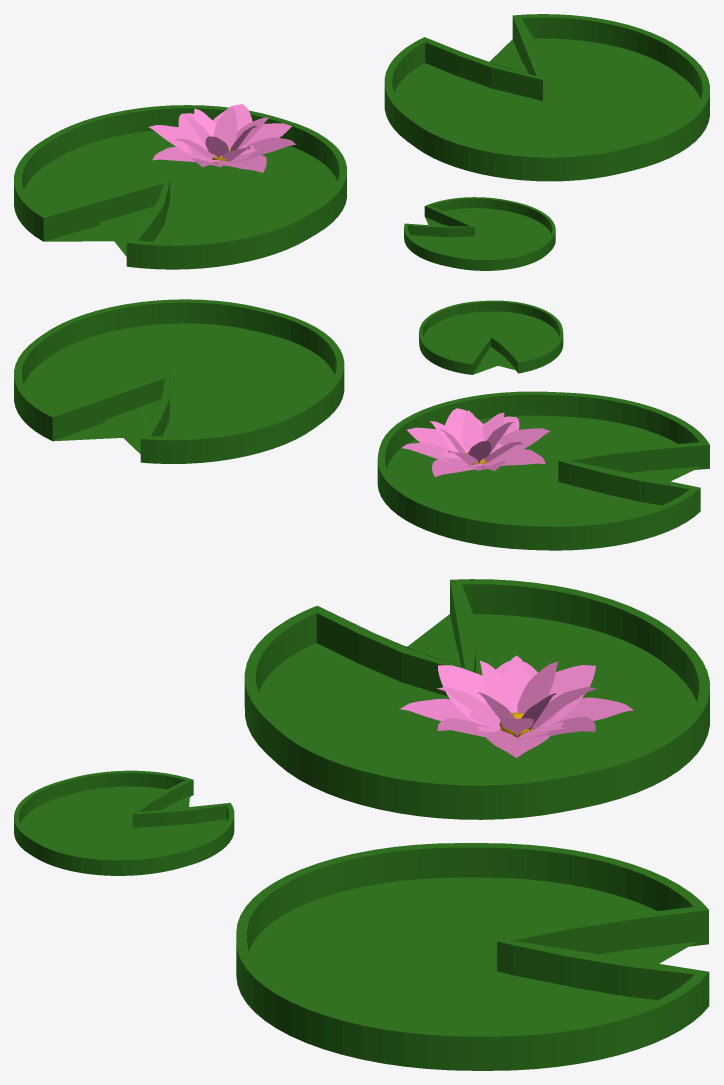
Rendered from WaterLelies.fbx.
3 renders of one model, top to bottom at view 1: azimuth 30°, elevation 25°; view 2: azimuth 150°, elevation 25°; view 3: azimuth 270°, elevation 25°, orthographic. The views are drawn at different scales.
Visible parts, largest first — view 1: Cube, Cube.002, Cube.001, Circle.004, Circle.012, Circle.006, Circle.003, Circle.002, Circle.001; view 2: Cube, Cube.002, Cube.001, Circle.007, Circle.013, Circle.003, Circle.002, Circle, Circle.005, Circle.006; view 3: Cube, Cube.002, Cube.001, Circle.007, Circle.004, Circle, Circle.001, Circle.014, Circle.003, Circle.015, Circle.008.
Part boxes in pixels (bbox=[...]): Cube: bbox=[384, 14, 709, 181]; Cube.002: bbox=[14, 105, 346, 269]; Cube.001: bbox=[404, 197, 555, 270]; Circle.004: bbox=[149, 125, 206, 159]; Circle.012: bbox=[213, 106, 236, 148]; Circle.006: bbox=[232, 137, 295, 162]; Circle.003: bbox=[239, 123, 291, 155]; Circle.002: bbox=[152, 147, 219, 162]; Circle.001: bbox=[217, 153, 266, 172]; Cube: bbox=[14, 299, 344, 463]; Cube.002: bbox=[377, 391, 709, 550]; Cube.001: bbox=[419, 300, 563, 374]; Circle.007: bbox=[492, 428, 549, 462]; Circle.013: bbox=[461, 410, 484, 453]; Circle.003: bbox=[406, 427, 461, 459]; Circle.002: bbox=[481, 449, 545, 465]; Circle: bbox=[432, 458, 482, 476]; Circle.005: bbox=[401, 442, 466, 467]; Circle.006: bbox=[445, 408, 483, 452]; Cube: bbox=[236, 843, 709, 1070]; Cube.002: bbox=[244, 579, 709, 819]; Cube.001: bbox=[14, 770, 234, 875]; Circle.007: bbox=[438, 665, 487, 725]; Circle.004: bbox=[541, 665, 595, 727]; Circle: bbox=[530, 697, 633, 731]; Circle.001: bbox=[400, 698, 501, 732]; Circle.014: bbox=[517, 661, 558, 713]; Circle.003: bbox=[486, 730, 549, 757]; Circle.015: bbox=[480, 660, 517, 720]; Circle.008: bbox=[437, 687, 502, 730].
Bounding box in the file's own units: 1163 × 92.25 × 748.
